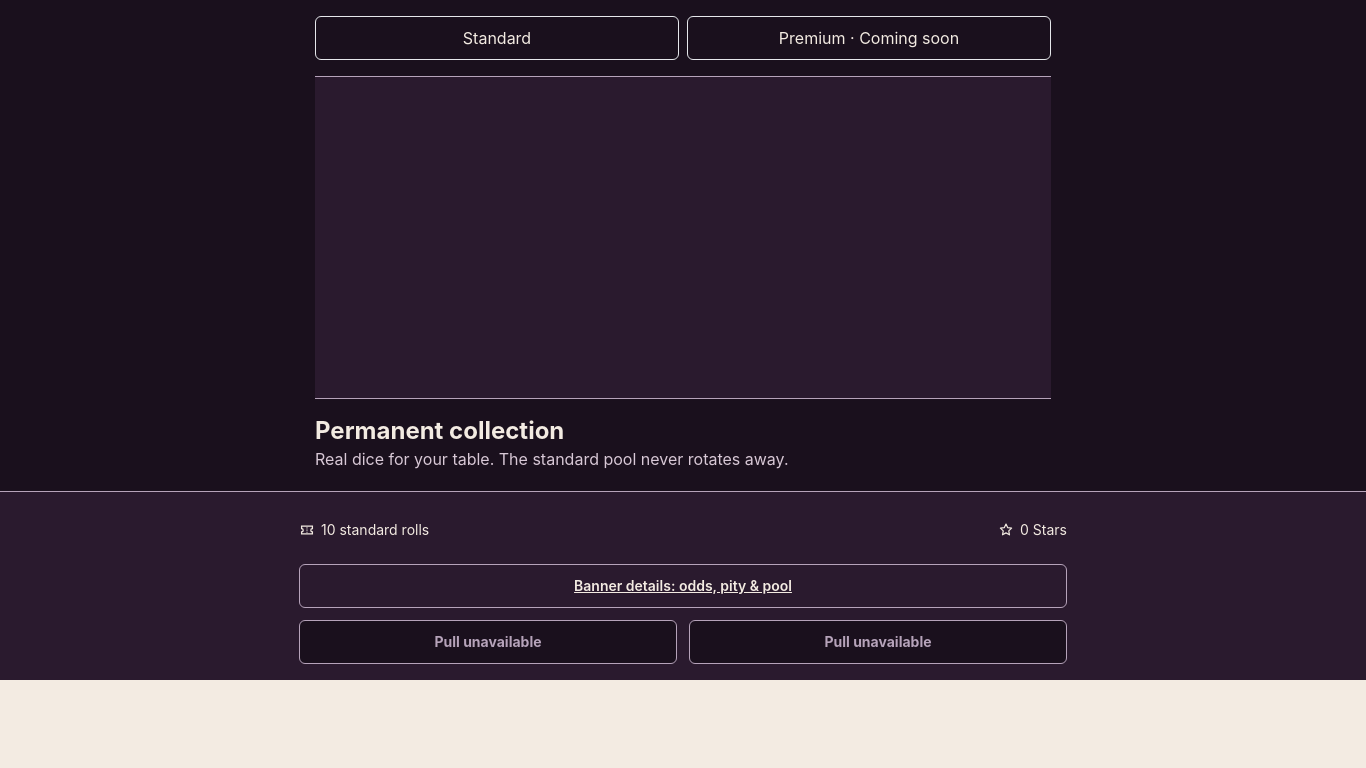
Test: PullBannerScreen CTA matrix › explains the receipt is pending when no pull has completed yet
The image size is (1366, 768).
Click the button "Banner details: odds, pity & pool": (683, 586) x1=299 y1=564 x2=1067 y2=608
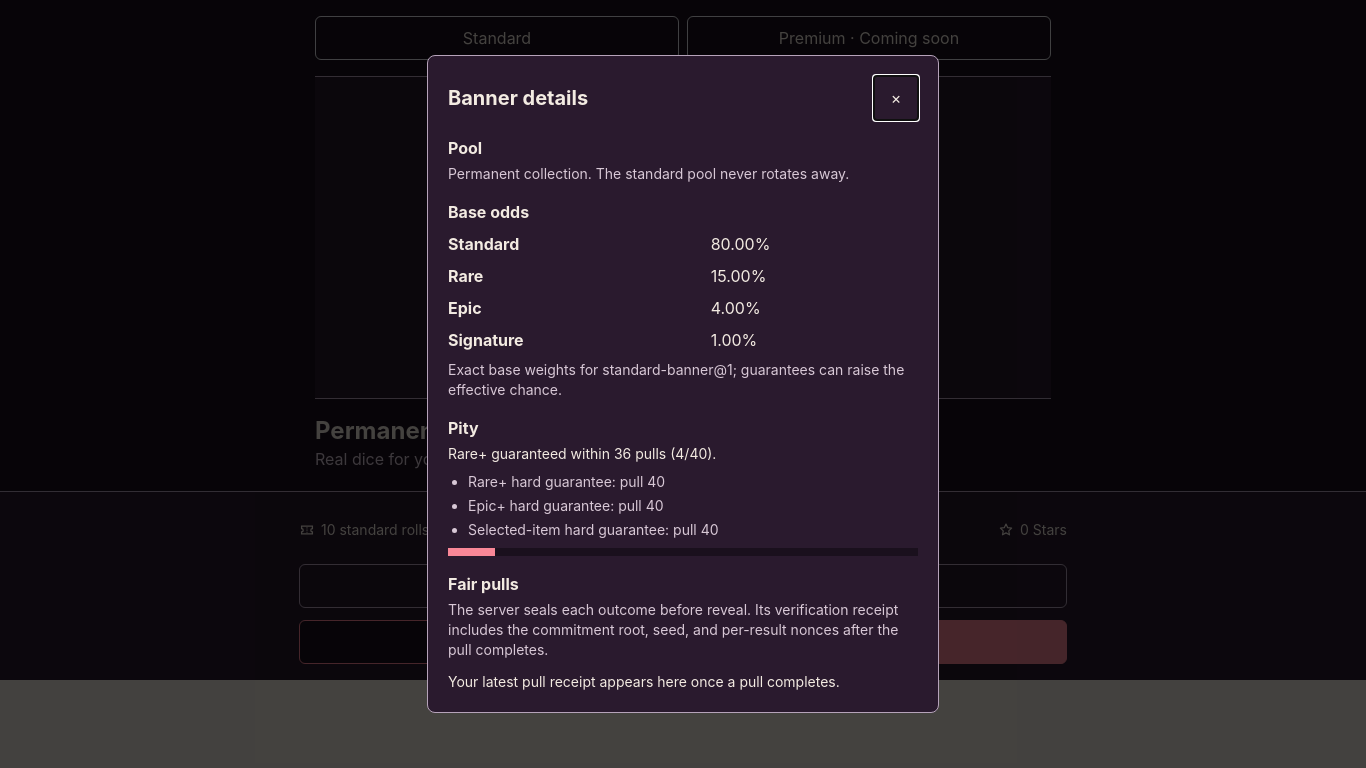
Result: the text "Your latest pull receipt appears here once a pull completes." is shown at x1=448 y1=673 x2=840 y2=690
